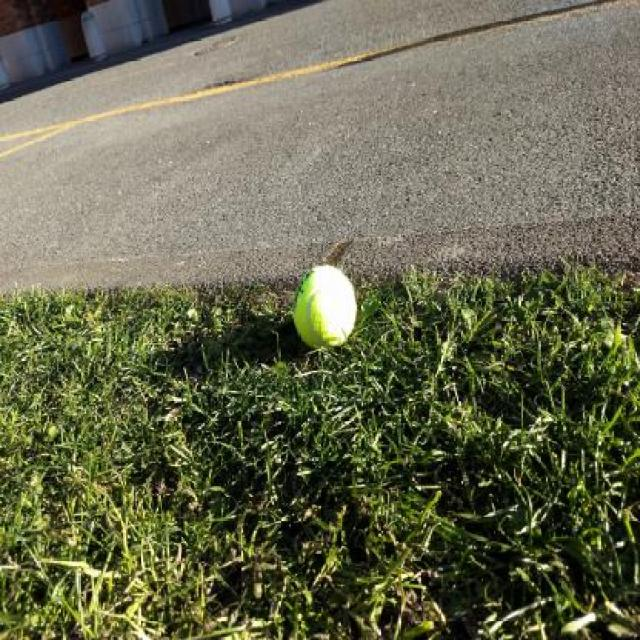Tennis_Ball: (297, 266, 357, 349)
